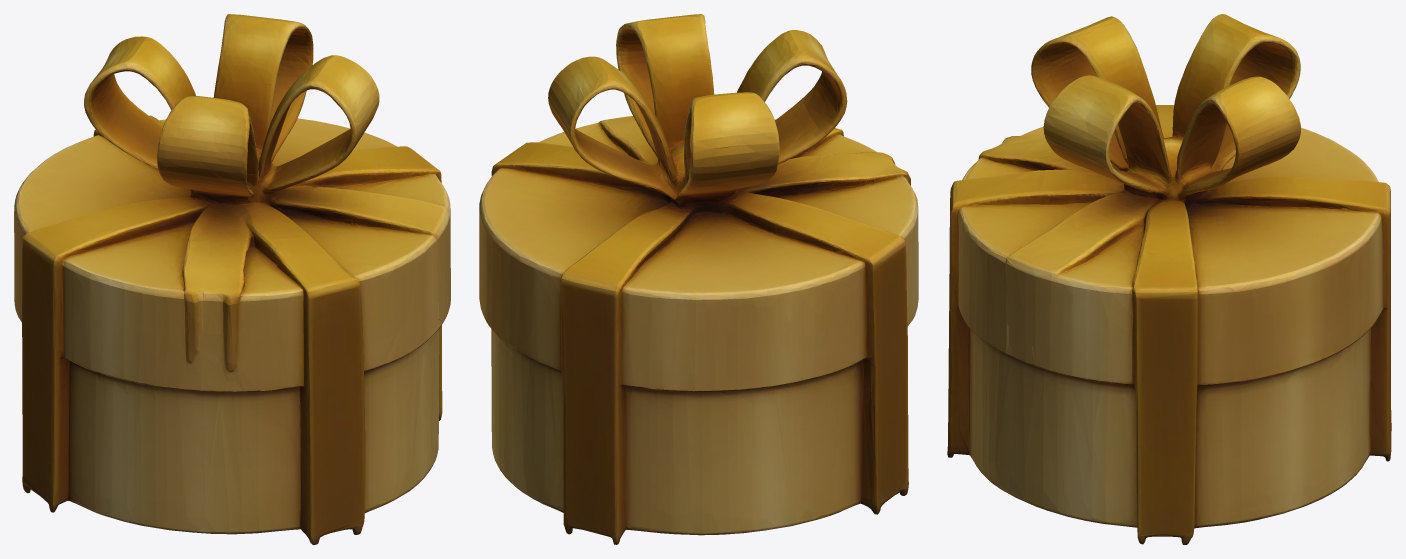
3 renders of one model, left to right at view 1: azimuth 30°, elevation 25°; view 2: azimuth 150°, elevation 25°; view 3: azimuth 270°, elevation 25°, orthographic.
Visible parts, largest first — view 1: geometry_0; view 2: geometry_0; view 3: geometry_0.
Part boxes in pixels (box(x1,y1,x2,y2)): geometry_0: box(14, 14, 450, 544); geometry_0: box(479, 14, 918, 544); geometry_0: box(947, 14, 1391, 544).
Bounding box in the file's own units: 0.987 × 0.9718 × 0.9817.
1 material, 1 textured.
